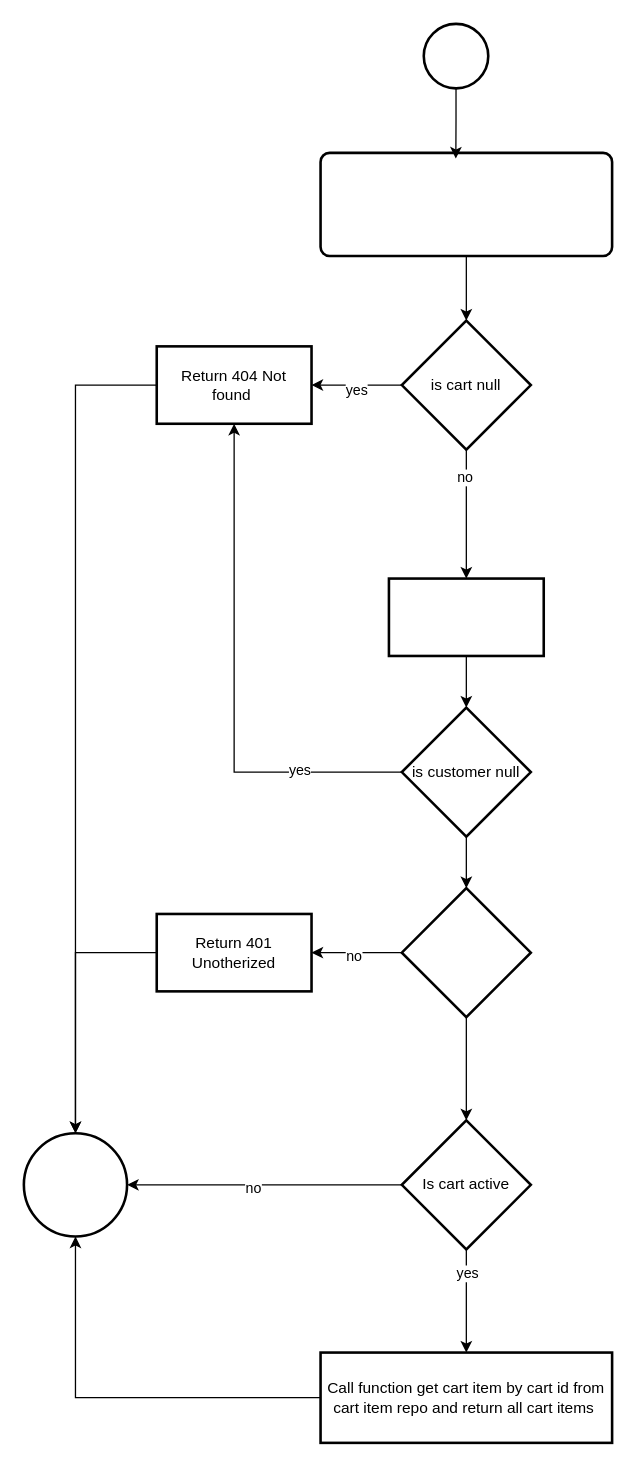
Some shapes in this 635 by 1465 pixel diagram are drawn without their labels. Here are the shapes that lost their labels. From the top down, the centre of each, then its label:
At point (466, 204): "Get cart".
At point (465, 617): "Get customer by user id".
At point (465, 952): "Does cart belong to user".
